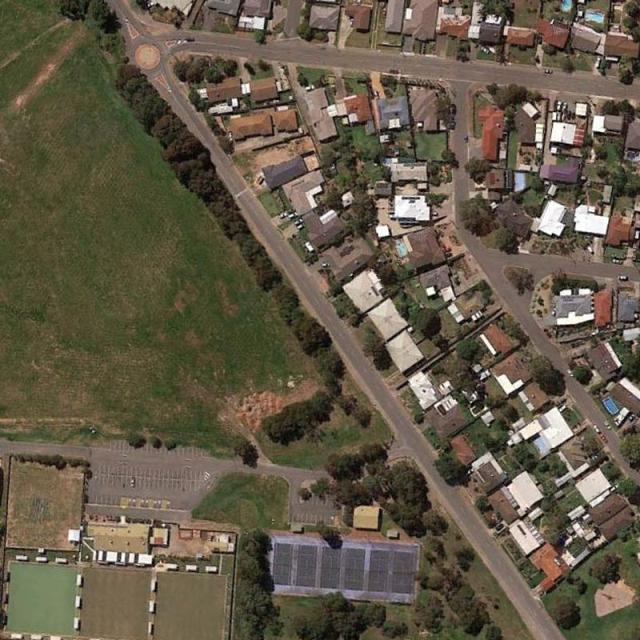vehicle: (319, 261, 333, 269), (450, 103, 457, 118), (618, 274, 629, 283), (599, 433, 608, 443), (372, 90, 381, 100), (480, 46, 490, 54), (593, 422, 599, 434), (604, 422, 612, 430), (462, 135, 469, 144), (294, 218, 303, 225), (556, 101, 562, 111), (613, 258, 623, 264), (229, 132, 234, 144), (544, 68, 552, 75), (295, 223, 303, 230), (628, 414, 635, 422), (287, 214, 298, 219), (562, 102, 567, 113), (568, 369, 574, 378), (349, 18, 354, 28), (552, 307, 557, 317), (130, 478, 135, 487), (280, 212, 287, 218), (146, 1, 154, 6)
